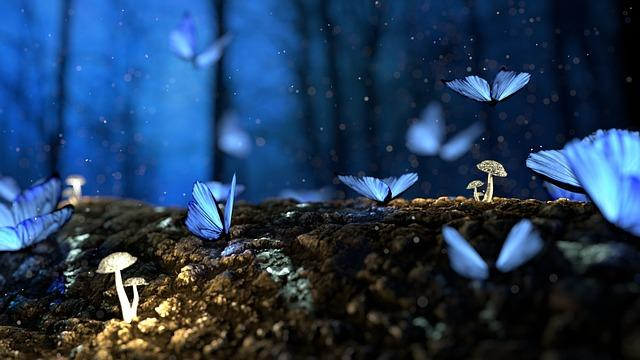Non_Gorille: (28, 5, 622, 348)
